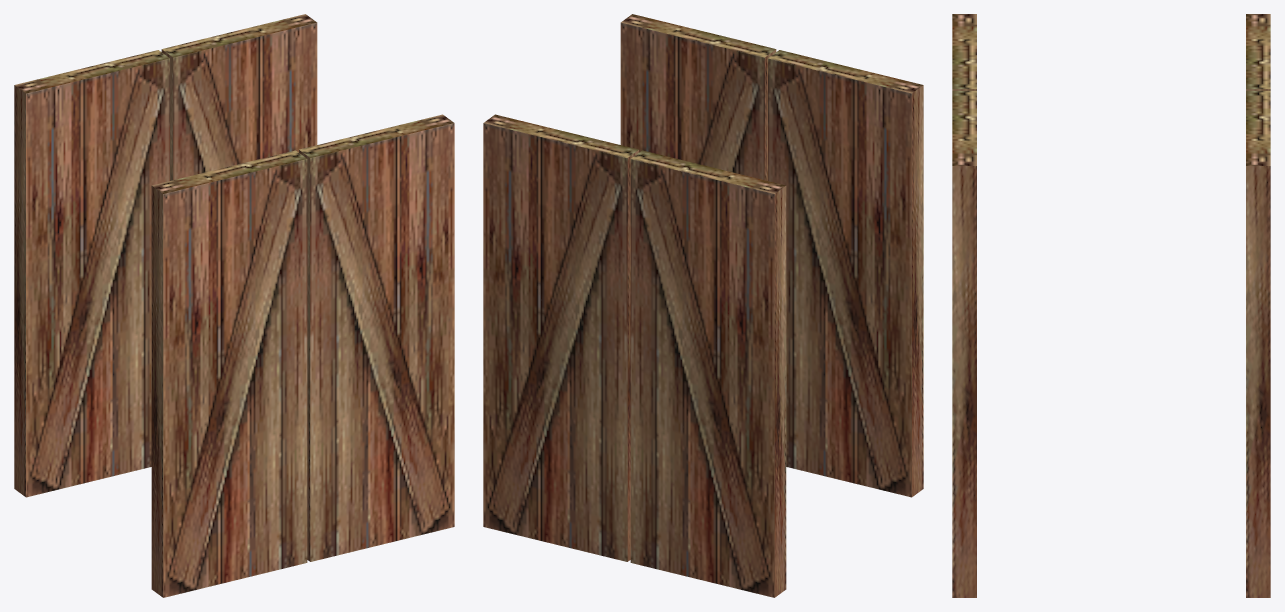
The model's file is iber_gate_door_1.dae.
The picture shows the model from 3 angles, left to right: view 1: azimuth 30°, elevation 25°; view 2: azimuth 150°, elevation 25°; view 3: azimuth 270°, elevation 25°; orthographic projection. The views are drawn at different scales.
Visible parts, largest first — view 1: Box06; view 2: Box06; view 3: Box06.
Part boxes in pixels (box(x1,y1,x2,y2)): Box06: box(14, 14, 454, 597); Box06: box(483, 14, 923, 597); Box06: box(952, 14, 1270, 597).
Size of the model in its own units: 4.68 by 4.14 by 6.2.
